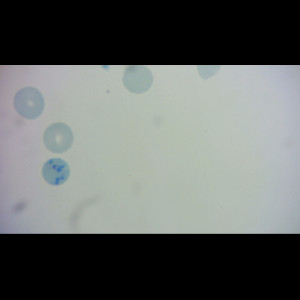aggregate reticulocyte: (41, 157, 72, 187)
erythrocyte: (12, 86, 46, 119), (42, 121, 74, 154), (121, 65, 155, 95)
